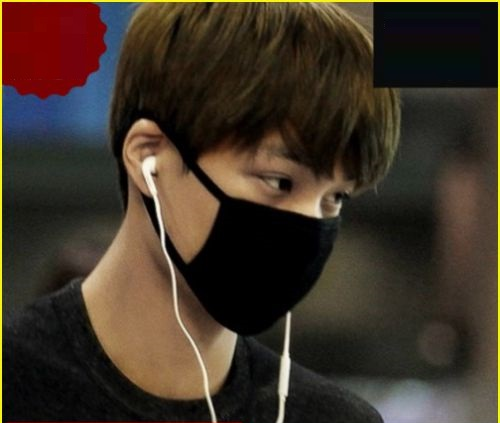face_mask: (168, 79, 365, 316)
